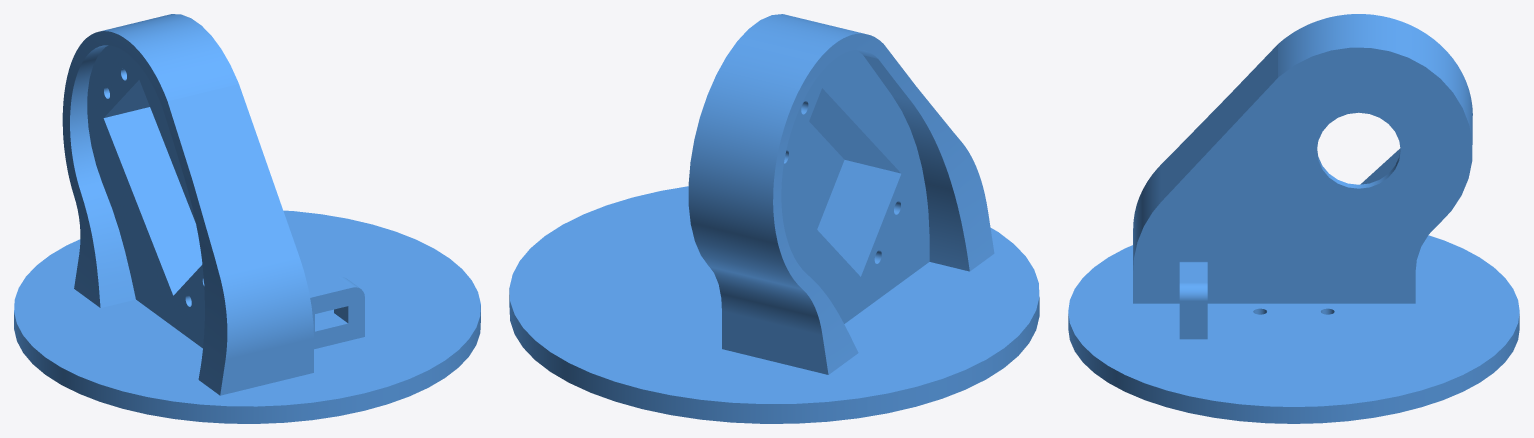
The model's file is waist.glb.
3 renders of one model, left to right at view 1: azimuth 30°, elevation 25°; view 2: azimuth 150°, elevation 25°; view 3: azimuth 270°, elevation 25°, orthographic. The views are drawn at different scales.
Parts seen in each view (by area): view 1: Waist.SLDPRT; view 2: Waist.SLDPRT; view 3: Waist.SLDPRT.
Boxes of the visible parts, box(x1,y1,x2,y2) form: Waist.SLDPRT: box(14, 14, 480, 423); Waist.SLDPRT: box(509, 14, 1039, 423); Waist.SLDPRT: box(1068, 14, 1519, 423).
Bounding box in the file's own units: 0.097 × 0.0648 × 0.097.
